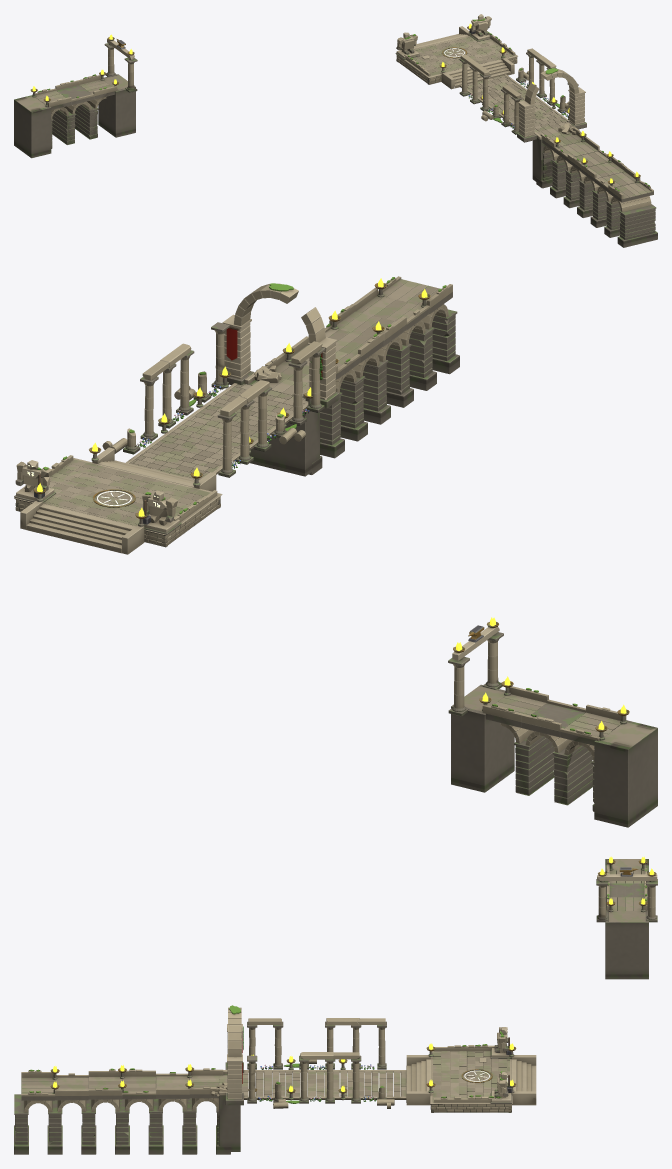
The model's file is LOBBY_SN_07_EXIT_d9f901.fbx.
3 renders of one model, top to bottom at view 1: azimuth 30°, elevation 25°; view 2: azimuth 150°, elevation 25°; view 3: azimuth 270°, elevation 25°, orthographic. The views are drawn at different scales.
Visible parts, largest first — view 1: WB_Exit_IsleBridge__SNB_IsleBridge, WB_Exit_Bridge__SNB_Bridge_1, WB_Exit_Spawn__SNB_Spawn, WB_Exit_Bridge_01__SNB_Bridge_2, WB_Exit_Avenue__SNB_Avenue_1, WB_Exit_Avenue__SNB_Avenue_0, WB_Exit_Gate__SNB_Gate; view 2: WB_Exit_IsleBridge__SNB_IsleBridge, WB_Exit_Spawn__SNB_Spawn, WB_Exit_Bridge__SNB_Bridge_1, WB_Exit_Avenue__SNB_Avenue_1, WB_Exit_Bridge_01__SNB_Bridge_2, WB_Exit_Avenue__SNB_Avenue_0, WB_Exit_Gate__SNB_Gate; view 3: WB_Exit_Spawn__SNB_Spawn, WB_Exit_Bridge__SNB_Bridge_1, WB_Exit_Bridge_01__SNB_Bridge_2, WB_Exit_IsleBridge__SNB_IsleBridge, WB_Exit_Avenue__SNB_Avenue_1, WB_Exit_Avenue__SNB_Avenue_0, WB_Exit_Gate__SNB_Gate.
Boxes of the visible parts, x1=… form: WB_Exit_IsleBridge__SNB_IsleBridge: x1=14, y1=37, x2=137, y2=158; WB_Exit_Bridge__SNB_Bridge_1: x1=577, y1=154, x2=657, y2=247; WB_Exit_Spawn__SNB_Spawn: x1=395, y1=14, x2=517, y2=89; WB_Exit_Bridge_01__SNB_Bridge_2: x1=532, y1=122, x2=611, y2=208; WB_Exit_Avenue__SNB_Avenue_1: x1=459, y1=48, x2=566, y2=124; WB_Exit_Avenue__SNB_Avenue_0: x1=468, y1=56, x2=578, y2=134; WB_Exit_Gate__SNB_Gate: x1=517, y1=68, x2=586, y2=142; WB_Exit_IsleBridge__SNB_IsleBridge: x1=448, y1=622, x2=657, y2=827; WB_Exit_Spawn__SNB_Spawn: x1=14, y1=447, x2=222, y2=554; WB_Exit_Bridge__SNB_Bridge_1: x1=328, y1=276, x2=459, y2=424; WB_Exit_Avenue__SNB_Avenue_1: x1=102, y1=346, x2=305, y2=480; WB_Exit_Bridge_01__SNB_Bridge_2: x1=244, y1=323, x2=383, y2=476; WB_Exit_Avenue__SNB_Avenue_0: x1=135, y1=322, x2=325, y2=474; WB_Exit_Gate__SNB_Gate: x1=219, y1=283, x2=339, y2=408; WB_Exit_Spawn__SNB_Spawn: x1=406, y1=1027, x2=536, y2=1112; WB_Exit_Bridge__SNB_Bridge_1: x1=14, y1=1068, x2=129, y2=1154; WB_Exit_Bridge_01__SNB_Bridge_2: x1=122, y1=1067, x2=240, y2=1154; WB_Exit_IsleBridge__SNB_IsleBridge: x1=596, y1=859, x2=657, y2=979; WB_Exit_Avenue__SNB_Avenue_1: x1=257, y1=1018, x2=406, y2=1108; WB_Exit_Avenue__SNB_Avenue_0: x1=242, y1=1018, x2=392, y2=1108; WB_Exit_Gate__SNB_Gate: x1=211, y1=1005, x2=257, y2=1105.
Bounding box in the file's own units: 208 × 51.38 × 223.
Materials: 9 (6 with a texture image).
